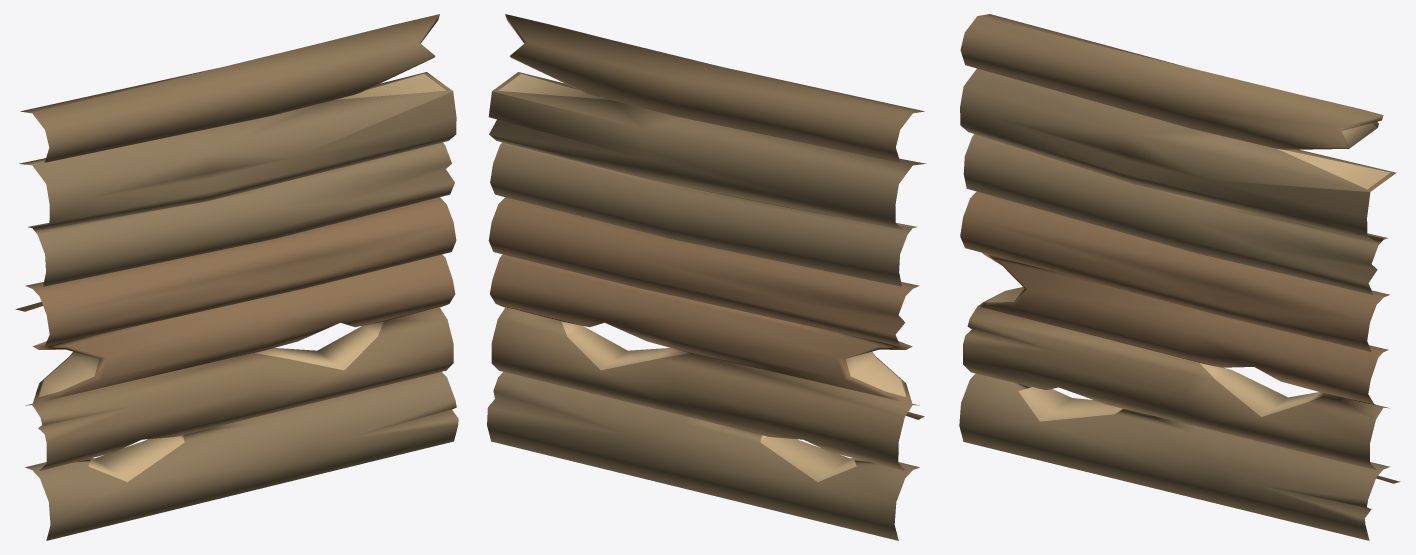
Rendered from rpgpp_av_wall_03_3x3_b.gltf.
3 views of the same model, side by side, from view 1: azimuth 30°, elevation 25°; view 2: azimuth 150°, elevation 25°; view 3: azimuth 330°, elevation 25° (orthographic).
Visible parts, largest first — view 1: rpgpp_av_wall_03_3x3_b; view 2: rpgpp_av_wall_03_3x3_b; view 3: rpgpp_av_wall_03_3x3_b.
Boxes of the visible parts, x1=… form: rpgpp_av_wall_03_3x3_b: x1=15, y1=14, x2=458, y2=540; rpgpp_av_wall_03_3x3_b: x1=487, y1=14, x2=926, y2=540; rpgpp_av_wall_03_3x3_b: x1=959, y1=14, x2=1400, y2=540.
Bounding box in the file's own units: 0.03 × 0.03 × 0.00471.
1 material, 1 textured.
